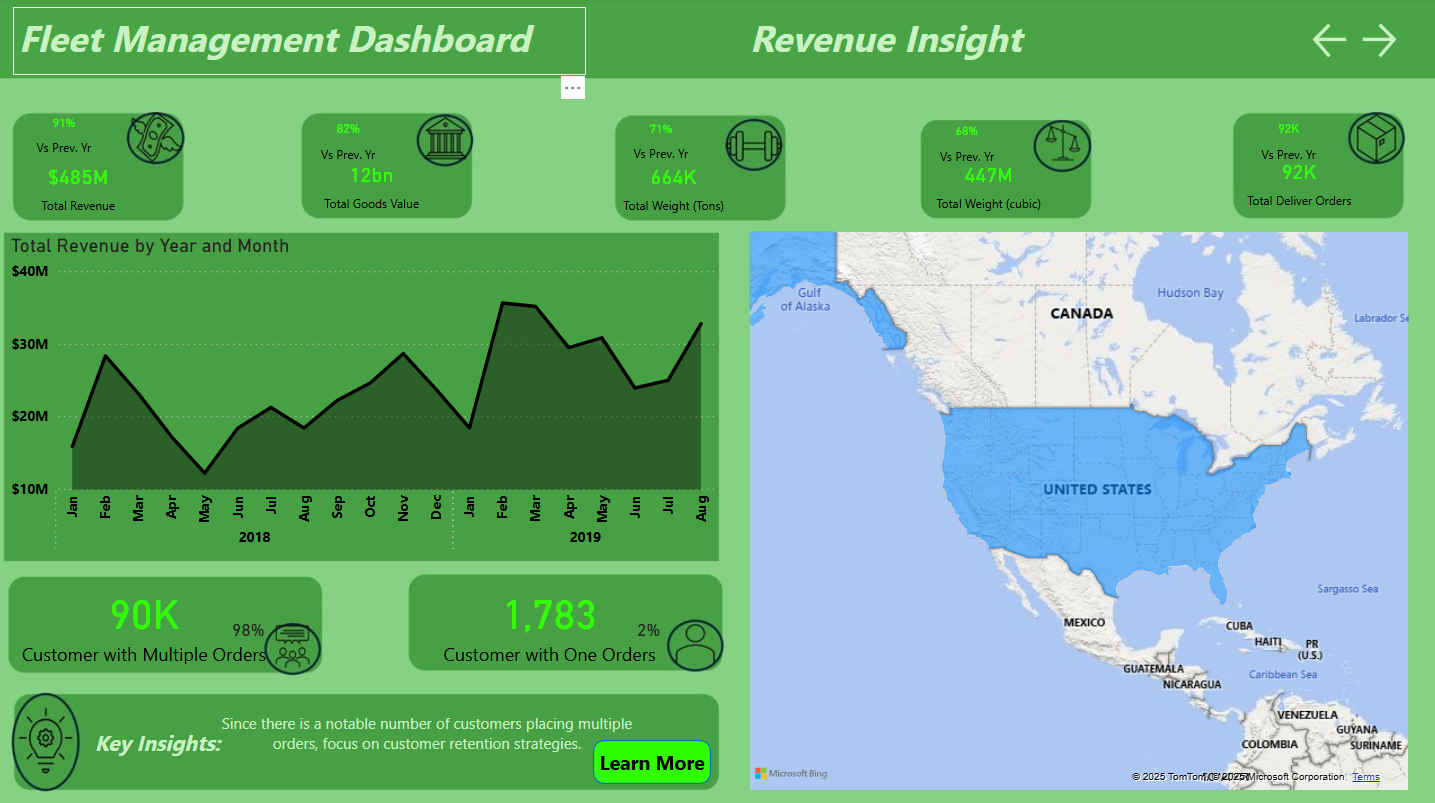

The page's visual inventory and layout, read from the dashboard file:
{"tool":"powerbi","page":{"name":"Revenue Insight","canvas":[1280,720],"ordinal":1},"visuals":[{"type":"card","fields":{"Values":["Revenue Insight Measure Table.Total Revenue"]},"box":[6.2,123.3,130.3,86],"z":0},{"type":"card","fields":{"Values":["Revenue Insight Measure Table.Total Goods Value"]},"box":[253.6,123.3,156.1,83.3],"z":1000},{"type":"card","fields":{"Values":["Revenue Insight Measure Table.Total Weight (Tons)"]},"box":[521.4,125,156.1,83.3],"z":2000},{"type":"card","fields":{"Values":["Revenue Insight Measure Table.Total Weight (cubic)"]},"box":[800.7,123.3,156.1,83.3],"z":3000},{"type":"card","fields":{"Values":["Revenue Insight Measure Table.Total Deliver Orders"]},"box":[1076.5,119.7,155.2,84.2],"z":4000},{"type":"card","fields":{"Values":["Revenue Insight Measure Table.Customer with Multiple Orders"]},"box":[13.3,511.6,233.2,84.2],"z":5000},{"type":"card","fields":{"Values":["Revenue Insight Measure Table.(%) YoY Growth Revenue"]},"box":[13.3,94,89.6,51.4],"z":6000},{"type":"card","fields":{"Values":["Revenue Insight Measure Table.(%) YoY Growth Goods Value"]},"box":[259.8,97.5,101.1,55],"z":7000},{"type":"card","fields":{"Values":["Revenue Insight Measure Table.(%) YoY Growth Total Weight (Tons)"]},"box":[527.6,99.3,119.7,51.4],"z":8000},{"type":"card","fields":{"Values":["Revenue Insight Measure Table.(%) YoY Growth Total Weight (Cubic)"]},"box":[809.6,99.3,99.3,55],"z":9000},{"type":"card","fields":{"Values":["Revenue Insight Measure Table.Total Deliver Orders"]},"box":[1096,97.5,96.7,55],"z":10000},{"type":"card","fields":{"Values":["Revenue Insight Measure Table.Customer with One Orders"]},"box":[372.4,511.6,234.1,84.2],"z":11000},{"type":"card","fields":{"Values":["Revenue Insight Measure Table.% of Repeated Customers"]},"box":[164.9,536.5,114.4,49.7],"z":12000},{"type":"card","fields":{"Values":["Revenue Insight Measure Table.% of One-Time Customers"]},"box":[527.6,540,99.3,42.6],"z":13000},{"type":"areaChart","fields":{"Category":["DateTable.Months.Year","DateTable.Months.Month","DateTable.Months.Quarter"],"Y":["Revenue Insight Measure Table.Total Revenue"]},"box":[6.2,209.3,634,290.8],"z":14000},{"type":"filledMap","fields":{"Category":["STATES.Full Name"]},"box":[661.5,202.2,594.1,505.4],"z":15000},{"type":"textbox","box":[13.3,8,508.1,60.3],"z":16000},{"type":"textbox","box":[80.7,642.9,131.2,34.6],"z":17000},{"type":"textbox","box":[183.5,629.6,393.7,61.2],"z":18000},{"type":"shape","box":[527.6,657.9,104.6,39],"z":19000},{"type":"actionButton","box":[1161.6,17.7,42.6,39.9],"z":20000},{"type":"actionButton","box":[1204.1,17.7,39.9,39.9],"z":21000},{"type":"textbox","box":[661.5,8,268.7,60.3],"z":21001}]}

Visuals, with their boxes in screenshot pixels (x1, y1, x2, y2), scaled from the page's 1280x720 canvas onto the 1435x803 screenshot:
card - Revenue Insight Measure Table.Total Revenue: locate(7, 138, 153, 233)
card - Revenue Insight Measure Table.Total Goods Value: locate(284, 138, 459, 230)
card - Revenue Insight Measure Table.Total Weight (Tons): locate(585, 139, 760, 232)
card - Revenue Insight Measure Table.Total Weight (cubic): locate(898, 138, 1073, 230)
card - Revenue Insight Measure Table.Total Deliver Orders: locate(1207, 133, 1381, 227)
card - Revenue Insight Measure Table.Customer with Multiple Orders: locate(15, 571, 276, 664)
card - Revenue Insight Measure Table.(%) YoY Growth Revenue: locate(15, 105, 115, 162)
card - Revenue Insight Measure Table.(%) YoY Growth Goods Value: locate(291, 109, 405, 170)
card - Revenue Insight Measure Table.(%) YoY Growth Total Weight (Tons): locate(591, 111, 726, 168)
card - Revenue Insight Measure Table.(%) YoY Growth Total Weight (Cubic): locate(908, 111, 1019, 172)
card - Revenue Insight Measure Table.Total Deliver Orders: locate(1229, 109, 1337, 170)
card - Revenue Insight Measure Table.Customer with One Orders: locate(417, 571, 680, 664)
card - Revenue Insight Measure Table.% of Repeated Customers: locate(185, 598, 313, 654)
card - Revenue Insight Measure Table.% of One-Time Customers: locate(591, 602, 703, 650)
areaChart - DateTable.Months.Year x DateTable.Months.Month: locate(7, 233, 718, 558)
filledMap - STATES.Full Name: locate(742, 226, 1408, 789)
textbox: locate(15, 9, 585, 76)
textbox: locate(90, 717, 238, 756)
textbox: locate(206, 702, 647, 770)
shape: locate(591, 734, 709, 777)
actionButton: locate(1302, 20, 1350, 64)
actionButton: locate(1350, 20, 1395, 64)
textbox: locate(742, 9, 1043, 76)
